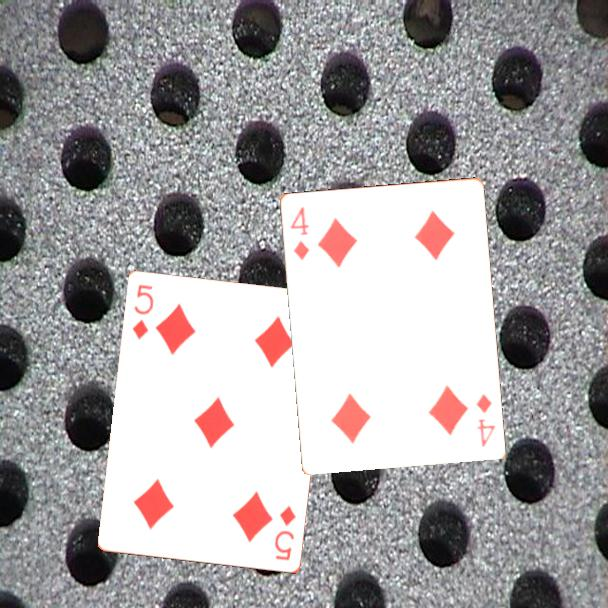d04: (472, 390, 497, 449), (287, 203, 311, 263)
d05: (271, 502, 299, 564), (129, 282, 157, 343)
